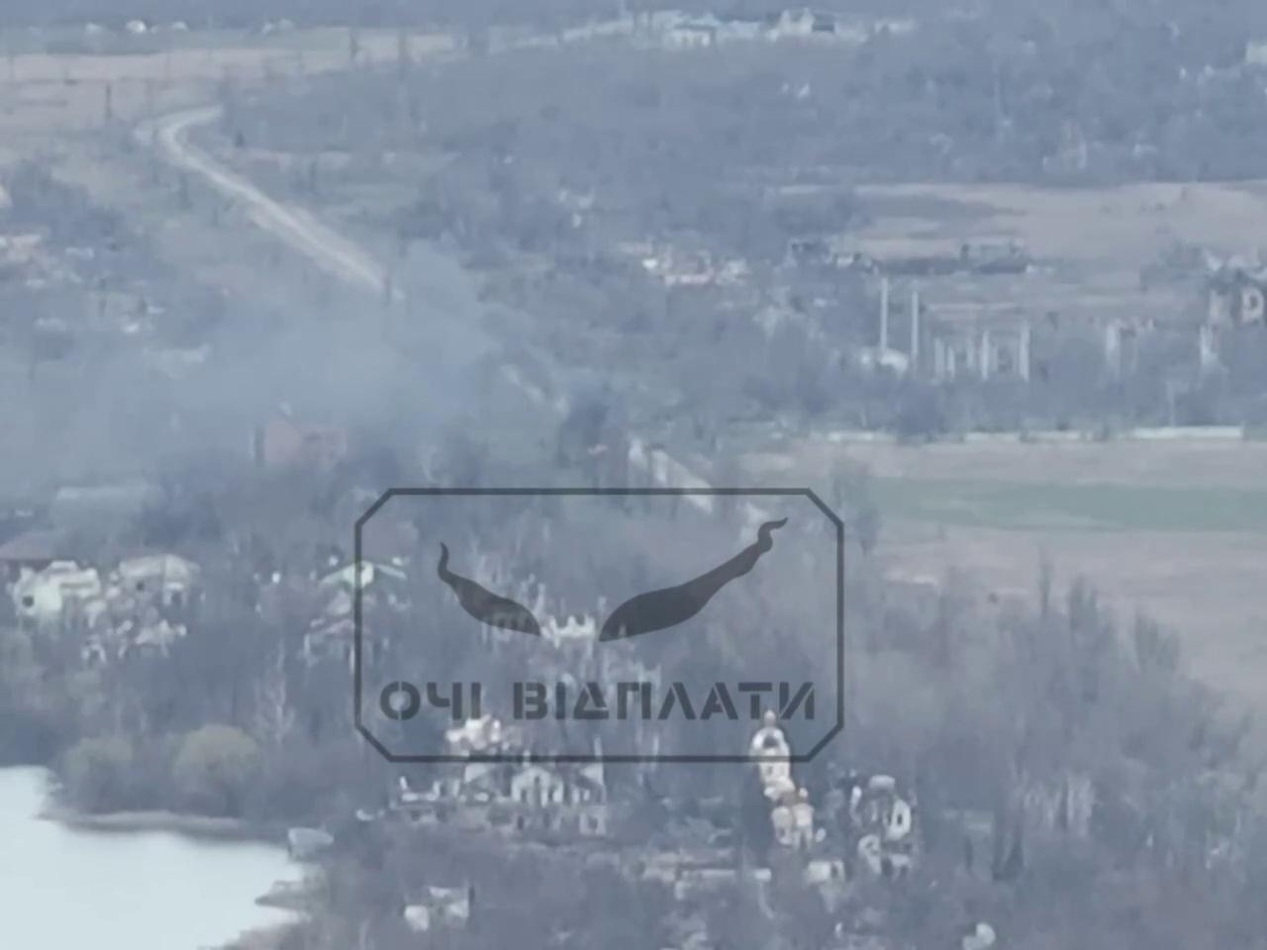vehicle: (639, 430, 669, 452)
